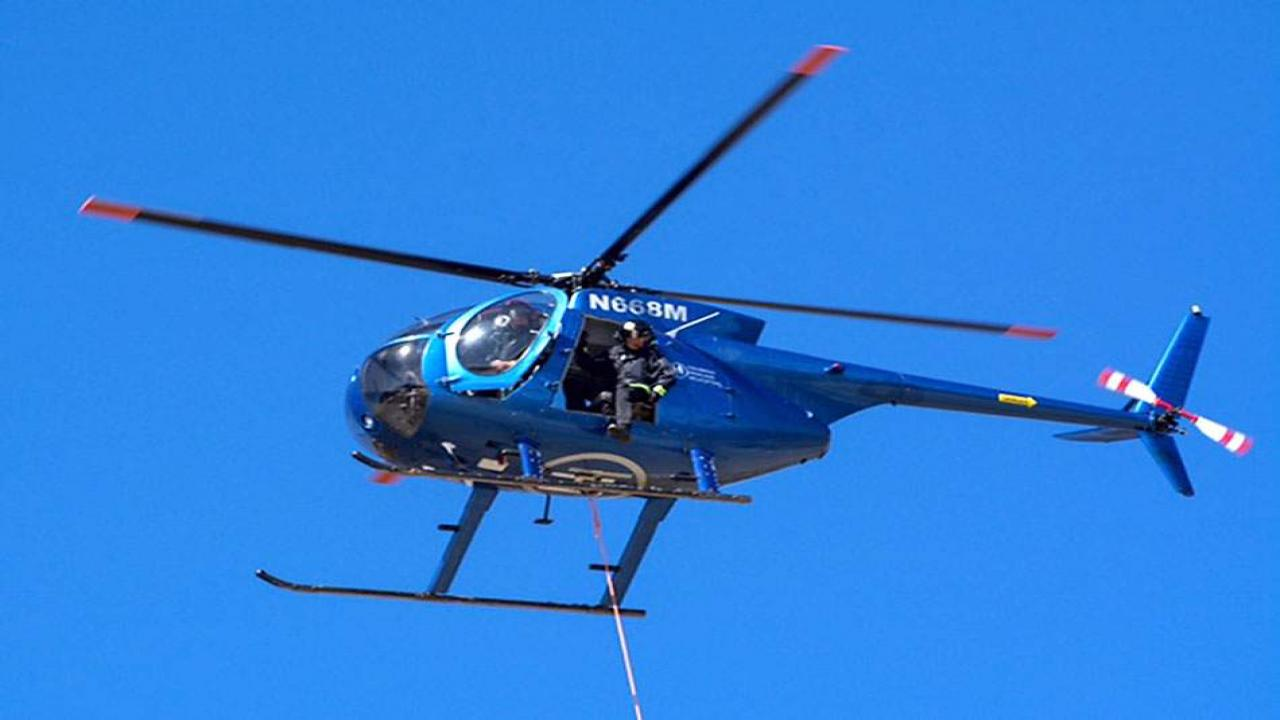Helicopter: (66, 39, 1266, 624)
